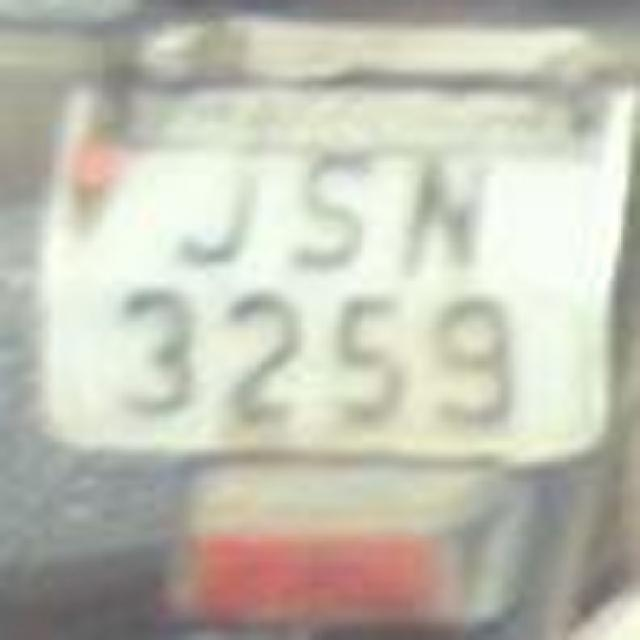2: (192, 275, 340, 440)
3: (80, 272, 228, 448)
5: (304, 272, 431, 428)
9: (415, 268, 540, 432)
J: (145, 144, 260, 291)
N: (364, 129, 504, 276)
S: (256, 149, 384, 276)
